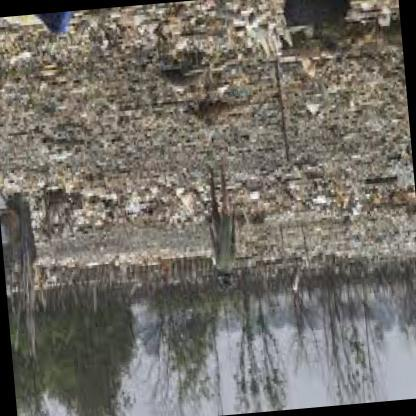Garbage: (293, 64, 330, 124), (96, 91, 133, 131), (188, 3, 224, 36), (316, 110, 358, 136), (154, 158, 188, 186), (126, 188, 152, 224), (60, 130, 94, 154), (236, 12, 270, 36), (40, 68, 56, 96), (314, 187, 330, 211), (246, 190, 270, 205)
